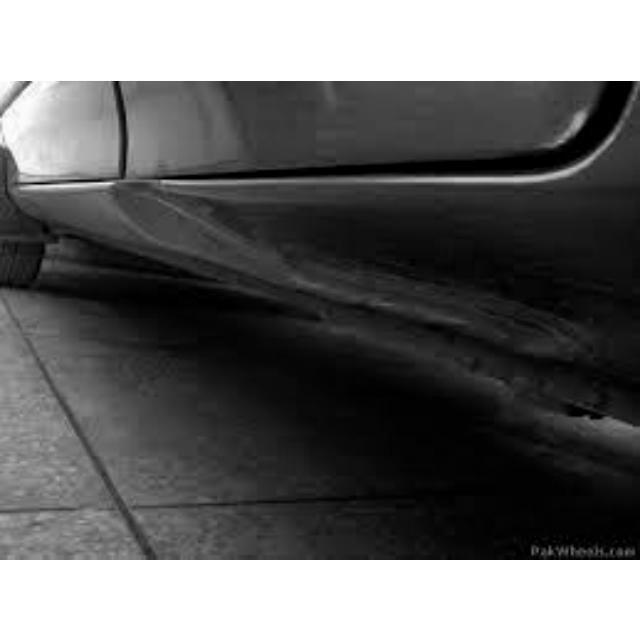Runningboard-Damage: (331, 251, 637, 394), (89, 184, 395, 295)
